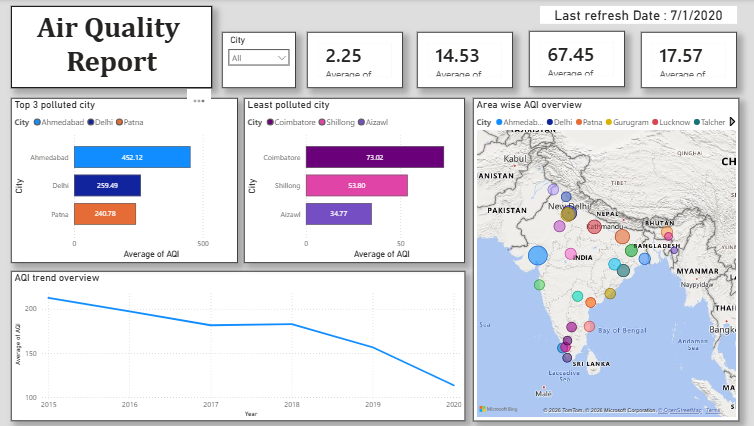

The page's visual inventory and layout, read from the dashboard file:
{"tool":"powerbi","page":{"name":"Page 1","canvas":[1280,720],"ordinal":0},"visuals":[{"type":"lineChart","title":"AQI trend overview","fields":{"Category":["city_day.Date.Variation.Date Hierarchy.Year","city_day.Date.Variation.Date Hierarchy.Quarter","city_day.Date.Variation.Date Hierarchy.Month","city_day.Date.Variation.Date Hierarchy.Day"],"Y":["Avg(city_day.AQI)"]},"box":[18.5,456.9,762.6,252],"z":0},{"type":"slicer","fields":{"Values":["city_day.City"]},"box":[372.9,55.4,124.3,94.1],"z":1000},{"type":"barChart","title":"Top 3 polluted city","fields":{"Category":["city_day.City"],"Y":["Avg(city_day.AQI)"],"Series":["city_day.City"]},"box":[18.5,166.3,381.3,277.2],"z":2000},{"type":"barChart","title":"Least polluted city","fields":{"Category":["city_day.City"],"Y":["Avg(city_day.AQI)"],"Series":["city_day.City"]},"box":[409.9,166.3,371.2,277.2],"z":3000},{"type":"cardVisual","fields":{"Data":["Avg(city_day.CO)"]},"box":[515.7,55.4,161.3,94.1],"z":4000},{"type":"cardVisual","fields":{"Data":["Avg(city_day.SO2)"]},"box":[700.5,55.4,161.3,94.1],"z":5000},{"type":"cardVisual","fields":{"Data":["Avg(city_day.PM2.5)"]},"box":[888.6,53.8,161.3,94.1],"z":6000},{"type":"cardVisual","fields":{"Data":["Avg(city_day.NO)"]},"box":[1076.7,55.4,161.3,94.1],"z":7000},{"type":"map","title":"Area wise AQI overview","fields":{"Category":["city_day.City"],"Size":["Avg(city_day.AQI)"],"Series":["city_day.City"]},"box":[794.5,166.3,446.8,542.6],"z":8000},{"type":"textbox","box":[18.5,11.8,337.6,137.7],"z":9000},{"type":"card","fields":{"Values":["city_day.MAX Date"]},"box":[907.1,11.8,330.9,30.2],"z":9001}]}

Visuals, with their boxes in screenshot pixels (x1, y1, x2, y2), scaled from the page's 1280x720 canvas onto the 754x426 screenshot:
"AQI trend overview" lineChart: select_region(11, 270, 460, 419)
slicer - city_day.City: select_region(220, 33, 293, 88)
"Top 3 polluted city" barChart: select_region(11, 98, 236, 262)
"Least polluted city" barChart: select_region(241, 98, 460, 262)
cardVisual - Avg(city_day.CO): select_region(304, 33, 399, 88)
cardVisual - Avg(city_day.SO2): select_region(413, 33, 508, 88)
cardVisual - Avg(city_day.PM2.5): select_region(523, 32, 618, 88)
cardVisual - Avg(city_day.NO): select_region(634, 33, 729, 88)
"Area wise AQI overview" map: select_region(468, 98, 731, 419)
textbox: select_region(11, 7, 210, 88)
card - city_day.MAX Date: select_region(534, 7, 729, 25)
